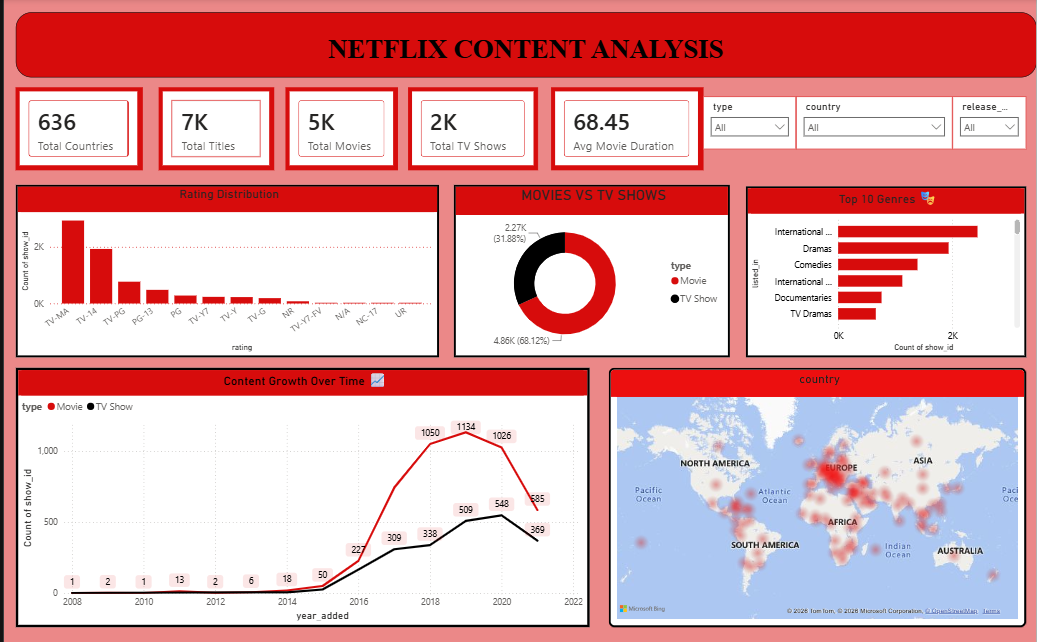

Layout of this report page (visuals, bound fields, positions):
{"tool":"powerbi","page":{"name":"Page 1","canvas":[1440,900],"ordinal":0},"visuals":[{"type":"textbox","box":[16.5,18.5,1424.1,90.6],"z":0},{"type":"cardVisual","fields":{"Data":["netflix_cleaned.Total Countries"]},"box":[16.5,123.5,177,115.2],"z":1000},{"type":"cardVisual","fields":{"Data":["netflix_cleaned.Total Movies"]},"box":[393.1,123.5,156.4,115.2],"z":2000},{"type":"cardVisual","fields":{"Data":["netflix_cleaned.Total Titles"]},"box":[216.1,123.5,160.5,115.2],"z":3000},{"type":"cardVisual","fields":{"Data":["netflix_cleaned.Total TV Shows"]},"box":[563.9,123.5,181.1,115.2],"z":4000},{"type":"cardVisual","fields":{"Data":["netflix_cleaned.Avg Movie Duration"]},"box":[763.5,123.5,212,115.2],"z":5000},{"type":"slicer","fields":{"Values":["netflix_cleaned.country"]},"box":[1105.2,135.8,218.1,74.1],"z":6000},{"type":"slicer","fields":{"Values":["netflix_cleaned.type"]},"box":[975.5,135.8,129.7,74.1],"z":7000},{"type":"slicer","fields":{"Values":["netflix_cleaned.release_year"]},"box":[1323.3,135.8,102.9,74.1],"z":8000},{"type":"lineChart","title":"Content Growth Over Time 📈","fields":{"Category":["netflix_cleaned.year_added"],"Y":["CountNonNull(netflix_cleaned.show_id)"],"Series":["netflix_cleaned.type"]},"box":[16.5,514.5,800.6,362.2],"z":9000},{"type":"donutChart","title":"MOVIES VS TV SHOWS","fields":{"Y":["CountNonNull(netflix_cleaned.show_id)"],"Category":["netflix_cleaned.type"]},"box":[627.7,259.3,384.8,240.8],"z":10000},{"type":"clusteredBarChart","title":"Top 10 Genres 🎭","fields":{"Category":["Netflix_Genres.listed_in"],"Y":["CountNonNull(Netflix_Genres.show_id)"]},"box":[1035.2,261.4,391,238.7],"z":11000},{"type":"clusteredColumnChart","title":"Rating Distribution","fields":{"Y":["CountNonNull(netflix_cleaned.show_id)"],"Category":["netflix_cleaned.rating"]},"box":[16.5,259.3,590.7,240.8],"z":12000},{"type":"map","fields":{"Category":["Netflix_Countries.country"]},"box":[843.8,514.5,582.4,362.2],"z":12001}]}

Visuals, with their boxes in screenshot pixels (x1, y1, x2, y2), scaled from the page's 1440x900 canvas onto the 1037x642 screenshot:
textbox: 12:13:1036:78
cardVisual - netflix_cleaned.Total Countries: 12:88:139:170
cardVisual - netflix_cleaned.Total Movies: 283:88:396:170
cardVisual - netflix_cleaned.Total Titles: 156:88:271:170
cardVisual - netflix_cleaned.Total TV Shows: 406:88:537:170
cardVisual - netflix_cleaned.Avg Movie Duration: 550:88:702:170
slicer - netflix_cleaned.country: 796:97:953:150
slicer - netflix_cleaned.type: 702:97:796:150
slicer - netflix_cleaned.release_year: 953:97:1027:150
"Content Growth Over Time 📈" lineChart: 12:367:588:625
"MOVIES VS TV SHOWS" donutChart: 452:185:729:357
"Top 10 Genres 🎭" clusteredBarChart: 745:186:1027:357
"Rating Distribution" clusteredColumnChart: 12:185:437:357
map - Netflix_Countries.country: 608:367:1027:625
